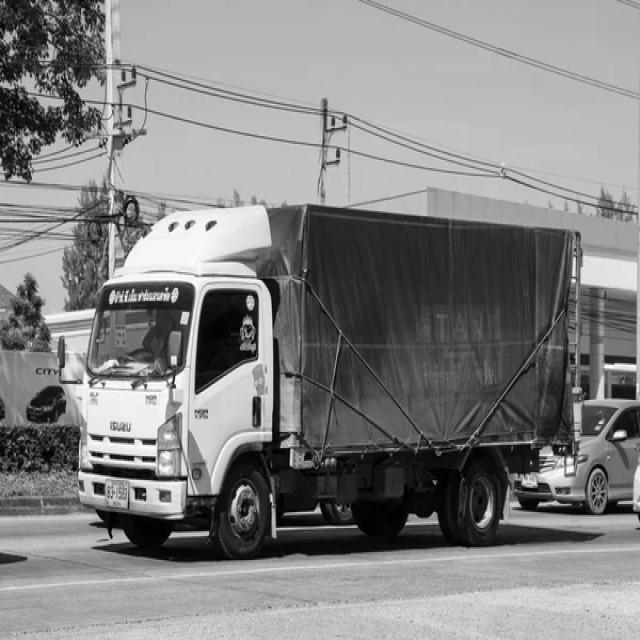Car: (515, 402, 640, 514)
Truck: (80, 205, 575, 558)
